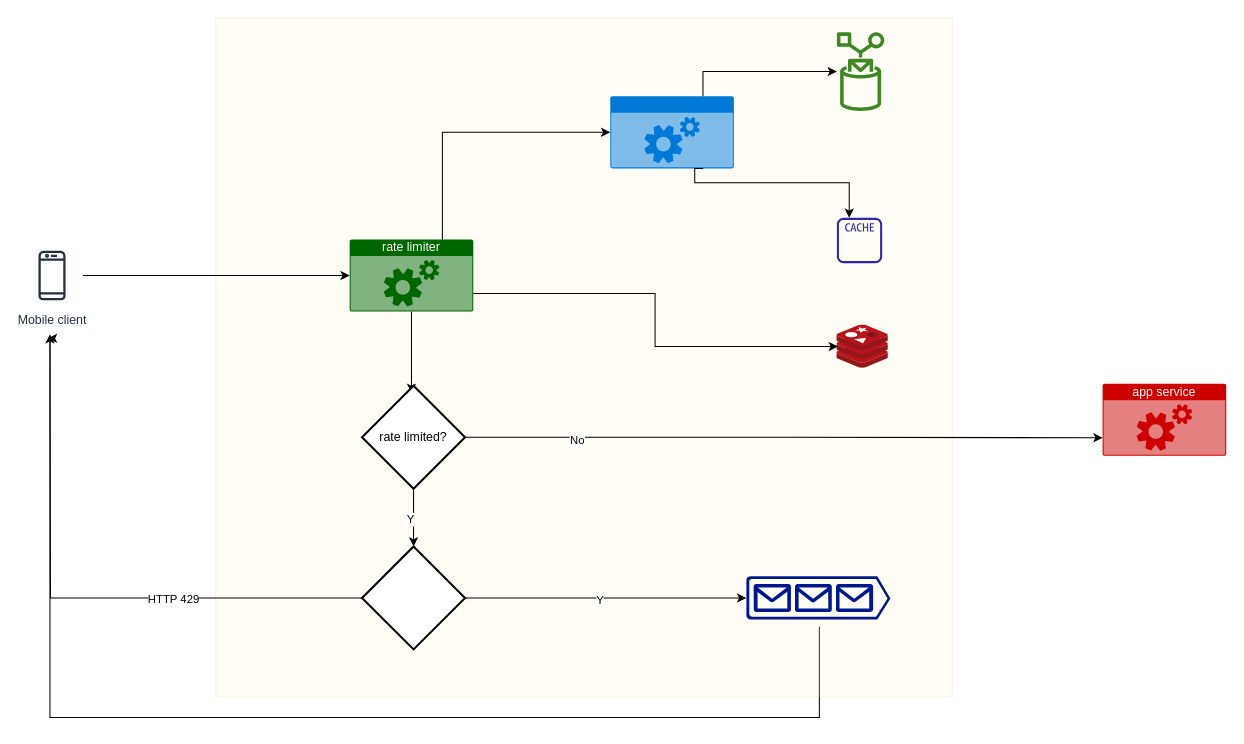
Some shapes in this 1244 by 744 pixel diagram are drawn without their labels. Here are the shapes that lost their labels. From the top down, the centre of each, then its label:
point (671, 132): rule service
point (413, 597): process later?
